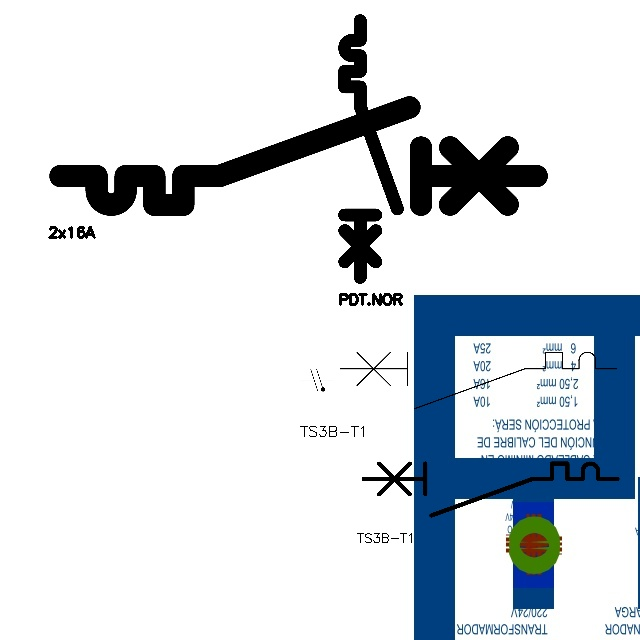interruptor_termomagnetico: (48, 95, 548, 217), (332, 345, 623, 416), (338, 14, 404, 284), (357, 457, 624, 522)
